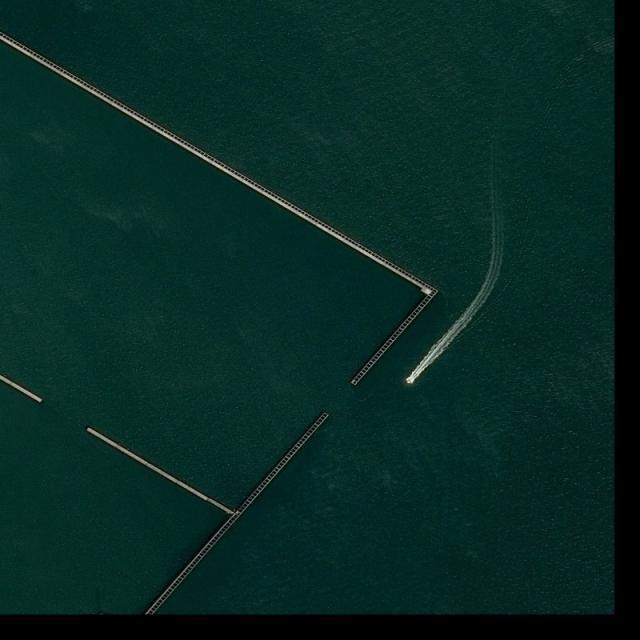ship: (406, 378, 414, 385)
